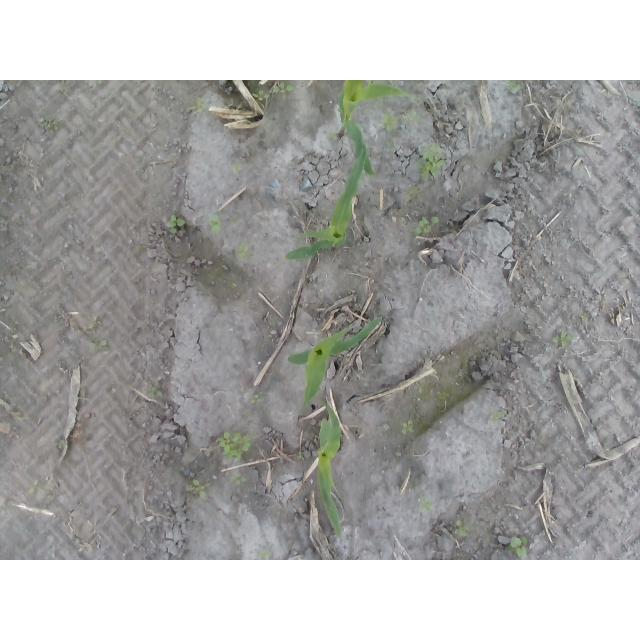Maize: (286, 149, 367, 261), (288, 319, 384, 406), (338, 81, 416, 176), (312, 396, 344, 539)
Weeds: (215, 431, 251, 461), (420, 143, 442, 181), (413, 216, 439, 236), (511, 536, 530, 560), (28, 480, 48, 500), (165, 215, 185, 233), (186, 480, 206, 498), (38, 117, 59, 134), (188, 98, 208, 115), (418, 494, 434, 515), (554, 330, 574, 346), (237, 238, 250, 262), (380, 111, 397, 129), (88, 339, 108, 354), (273, 81, 294, 95), (488, 410, 505, 427), (454, 519, 470, 537), (401, 420, 415, 437), (208, 216, 221, 233), (249, 90, 269, 101), (233, 158, 244, 178), (232, 472, 248, 485), (150, 384, 163, 400), (400, 111, 418, 122), (504, 81, 522, 92), (407, 185, 421, 199), (249, 392, 263, 405), (134, 244, 149, 252), (580, 312, 589, 324), (89, 81, 104, 88), (265, 552, 276, 561)
